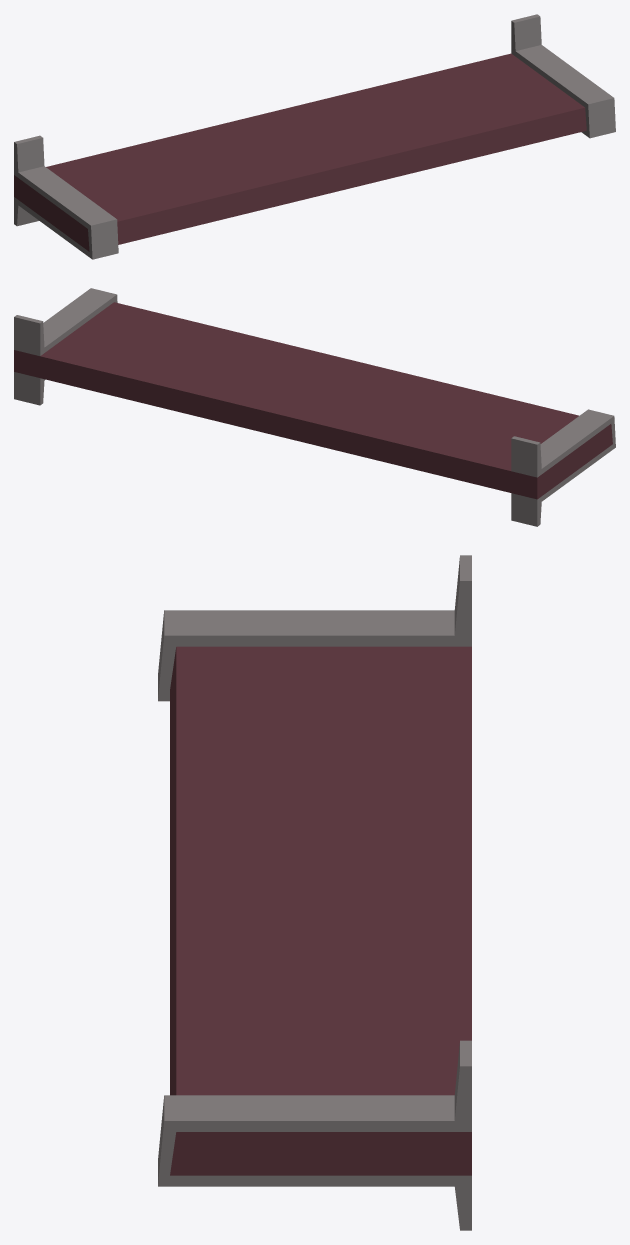
Rendered from shelf-modern.fbx.
3 renders of one model, top to bottom at view 1: azimuth 30°, elevation 25°; view 2: azimuth 150°, elevation 25°; view 3: azimuth 270°, elevation 25°, orthographic. The views are drawn at different scales.
Visible parts, largest first — view 1: shelf-modern; view 2: shelf-modern; view 3: shelf-modern.
Boxes of the visible parts, x1,y1,x2,y2 form: shelf-modern: (14,14,615,259); shelf-modern: (14,288,615,526); shelf-modern: (158,555,471,1230).
Bounding box in the file's own units: 1 × 0.15 × 0.26.
